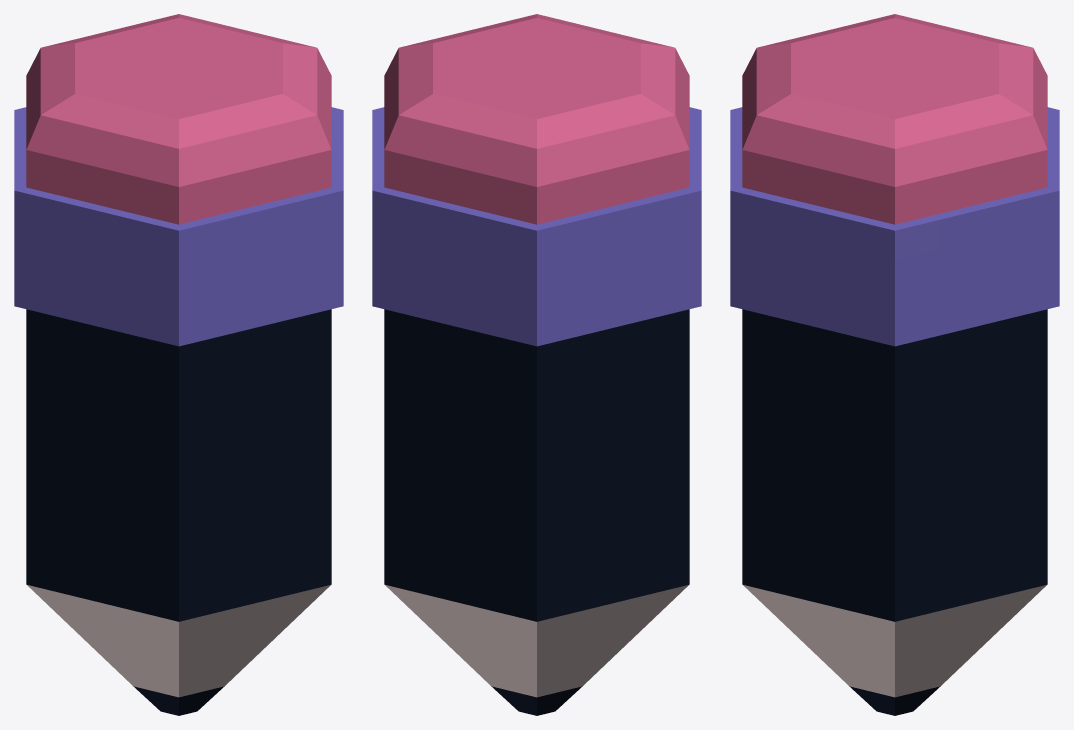
File: penci_1 .fbx
The picture shows the model from 3 angles, left to right: view 1: azimuth 30°, elevation 25°; view 2: azimuth 150°, elevation 25°; view 3: azimuth 270°, elevation 25°; orthographic projection.
Visible parts, largest first — view 1: Cylinder; view 2: Cylinder; view 3: Cylinder.
Part boxes in pixels (<box>): Cylinder: <box>14,14,343,715</box>; Cylinder: <box>372,14,701,715</box>; Cylinder: <box>730,14,1059,715</box>.
Size of the model in its own units: 216 by 400 by 187.
